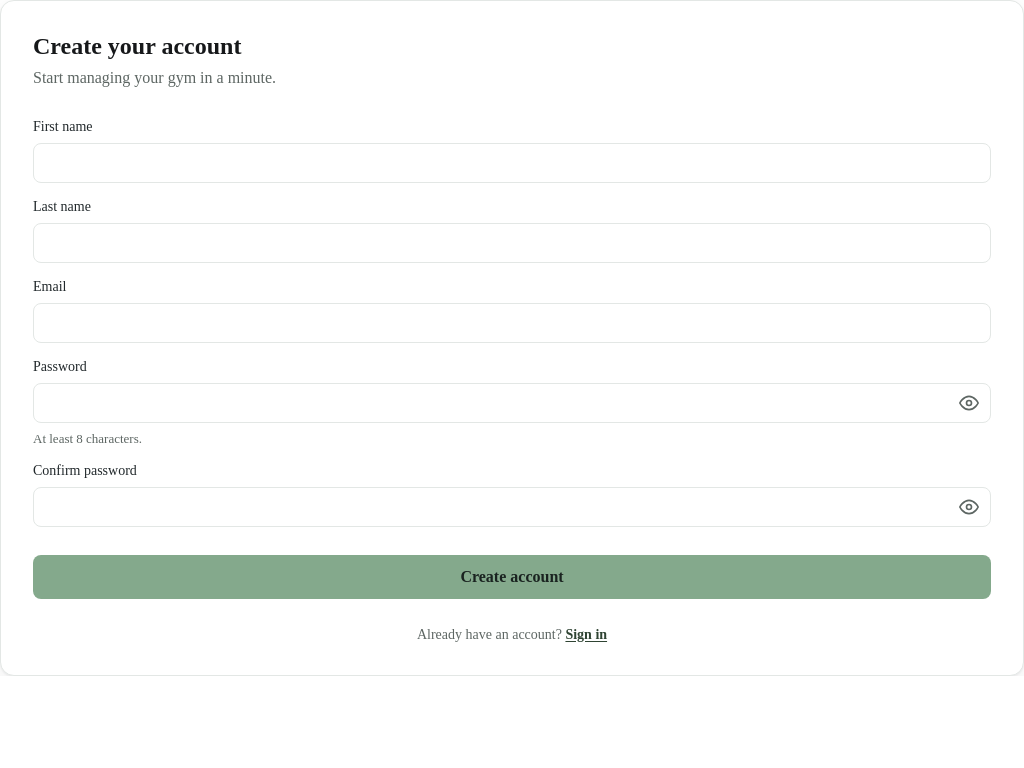
Test: registration validation › enforces the minimum password length the API demands
The width and height of the screenshot is (1024, 768).
Type "Nkwenu" into the field labelled "First name".
click(512, 163); type("Nkwenu")  # box [33,143,991,183]
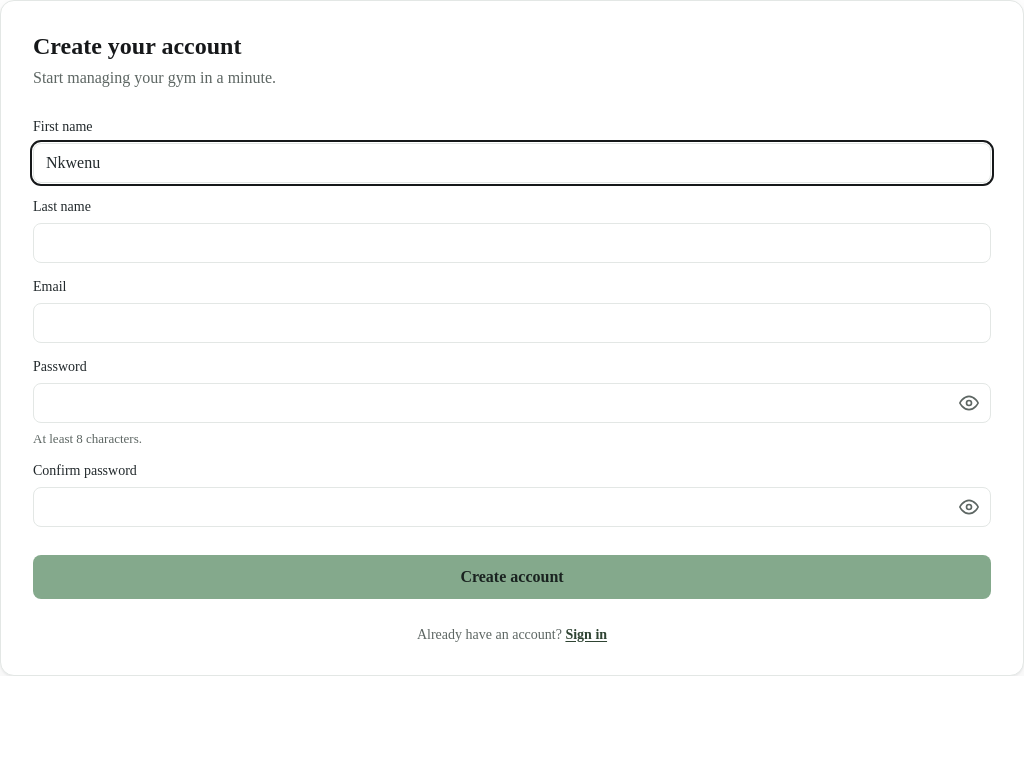
Type "Inadine" into the field labelled "Last name".
click(512, 243); type("Inadine")  # box [33,223,991,263]
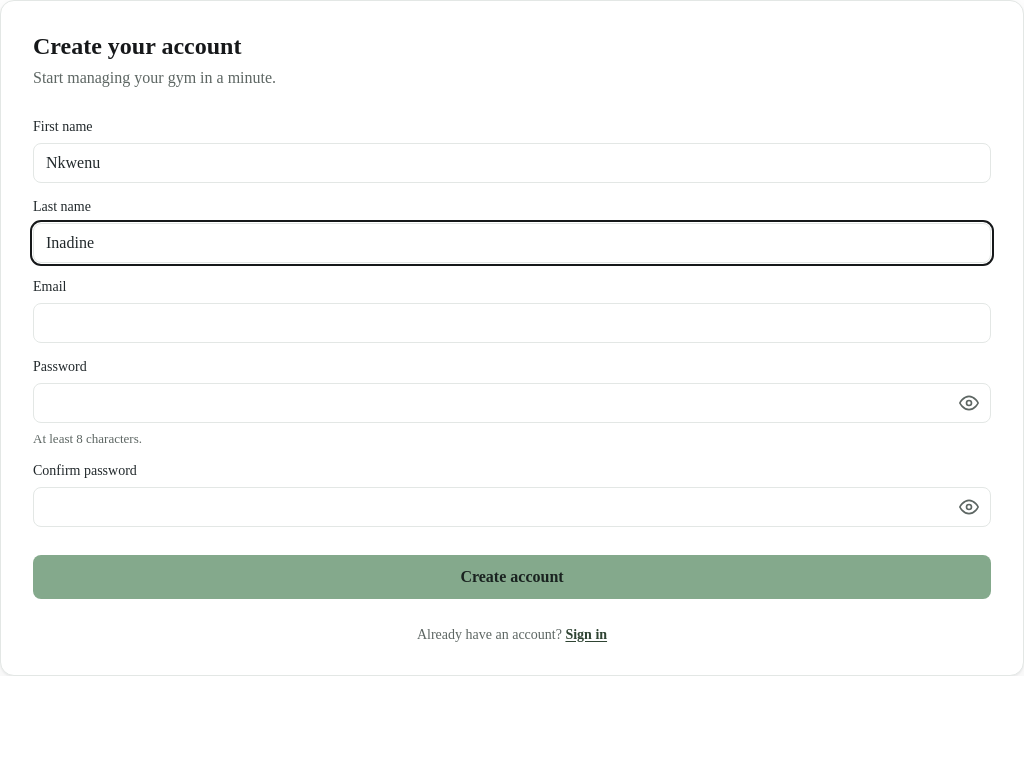
Type "nkwenu@gmail.com" into the field labelled "Email".
click(512, 323); type("nkwenu@gmail.com")  # box [33,303,991,343]
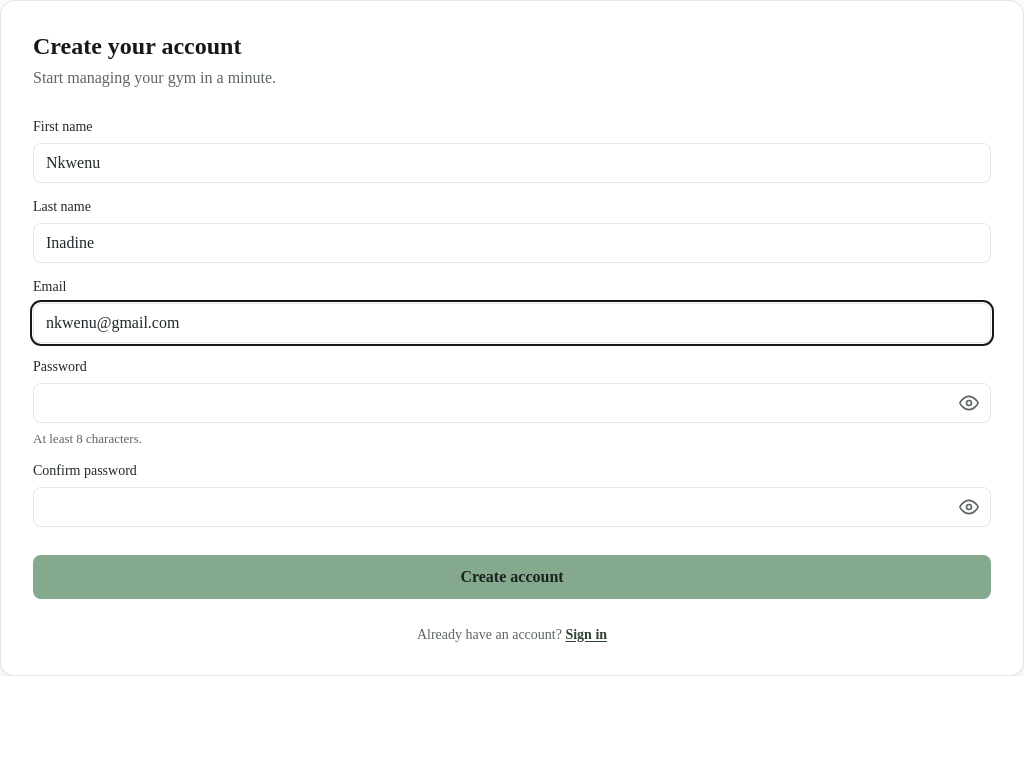
Type "short1" into the password field labelled "Password".
click(512, 403); type("short1")  # box [33,383,991,423]
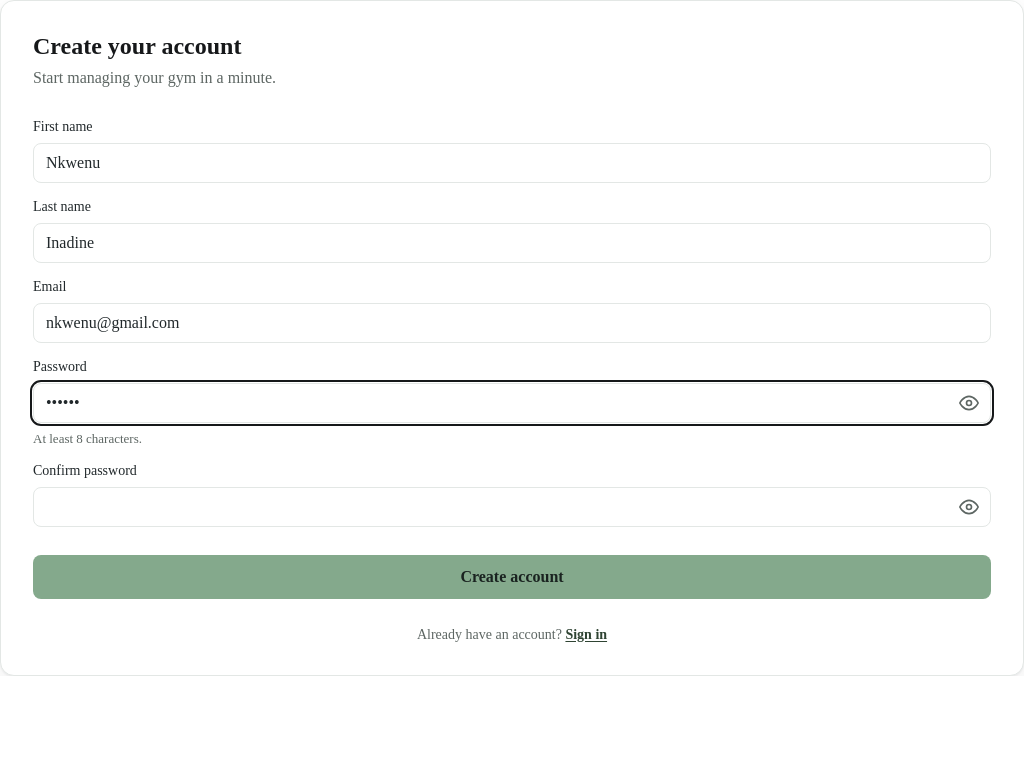
Type "short1" into the password field labelled "Confirm password".
click(512, 507); type("short1")  # box [33,487,991,527]
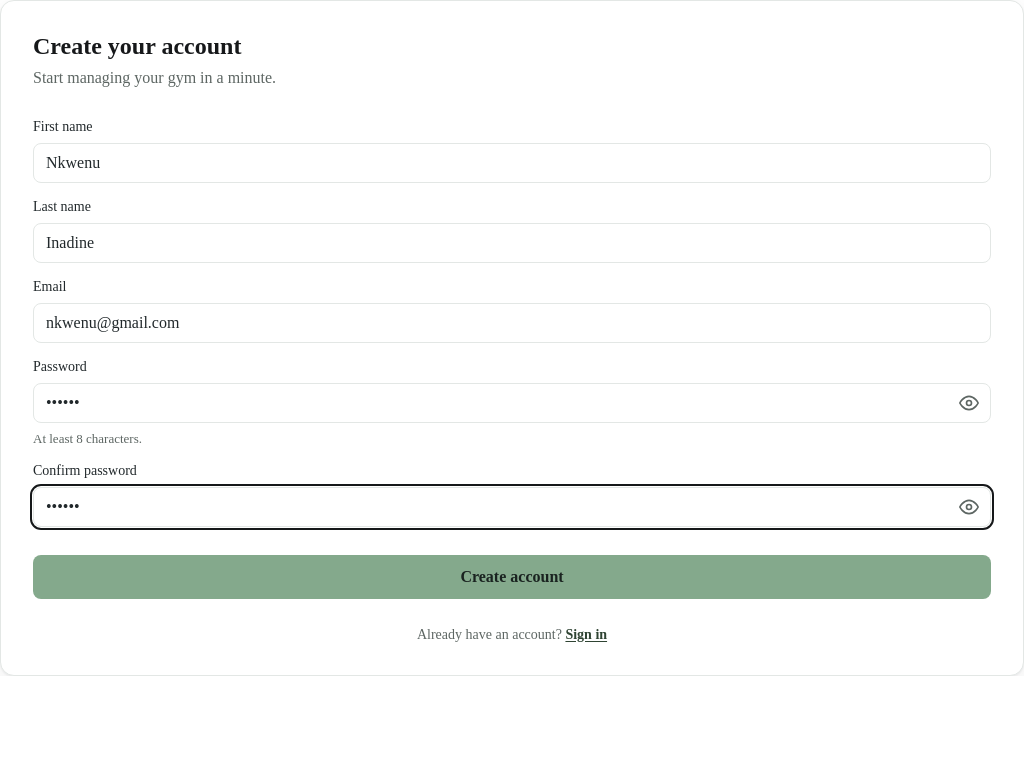
Click the button "Create account".
click(512, 577)  # box [33,555,991,599]
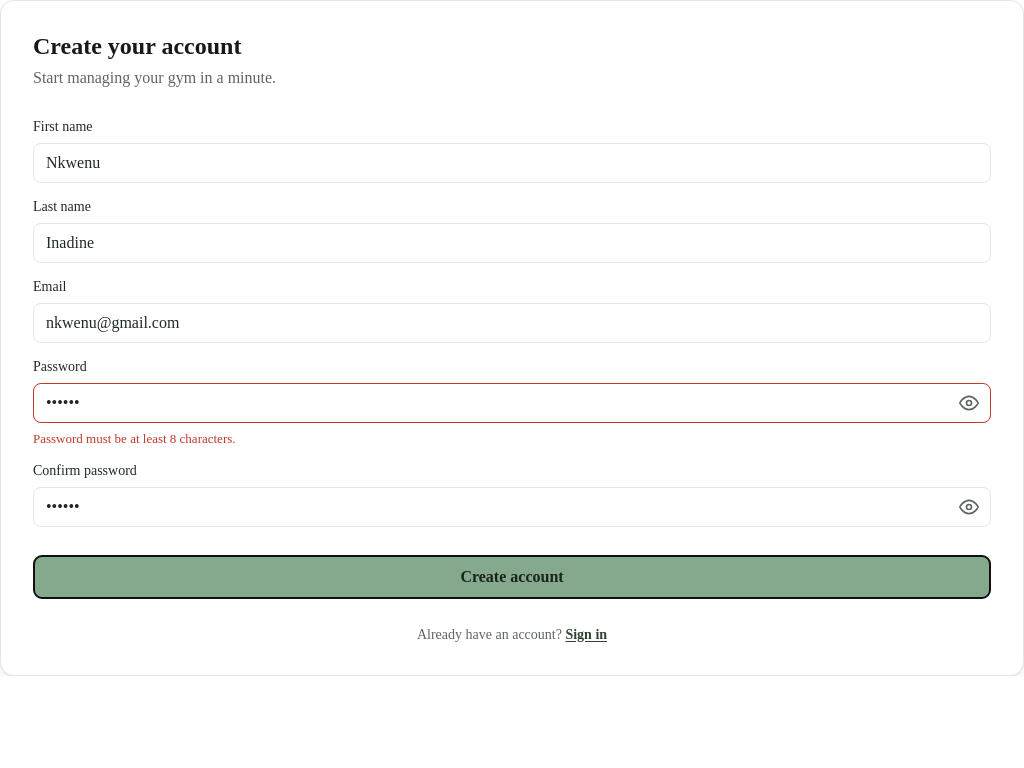
Check: the text "Password must be at least 8 characters." is shown, box [33,431,236,446]
